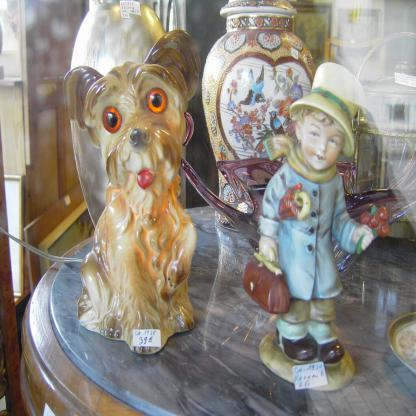vase: (202, 10, 318, 233)
